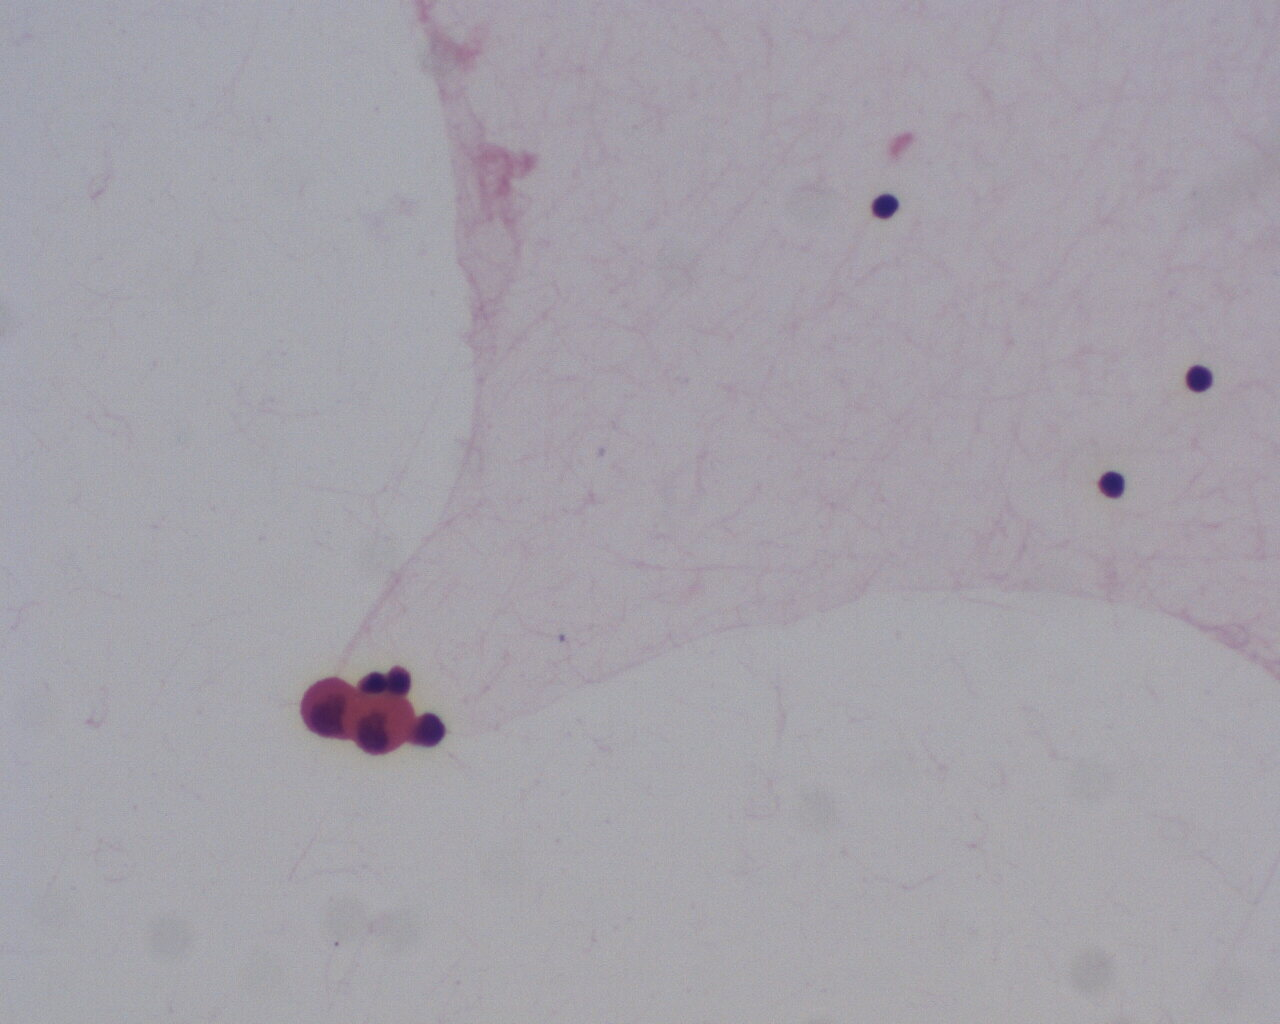ab: (295, 674, 360, 744), (345, 693, 415, 755)
lymph: (1181, 359, 1223, 399), (1091, 460, 1131, 501), (866, 190, 906, 223)
